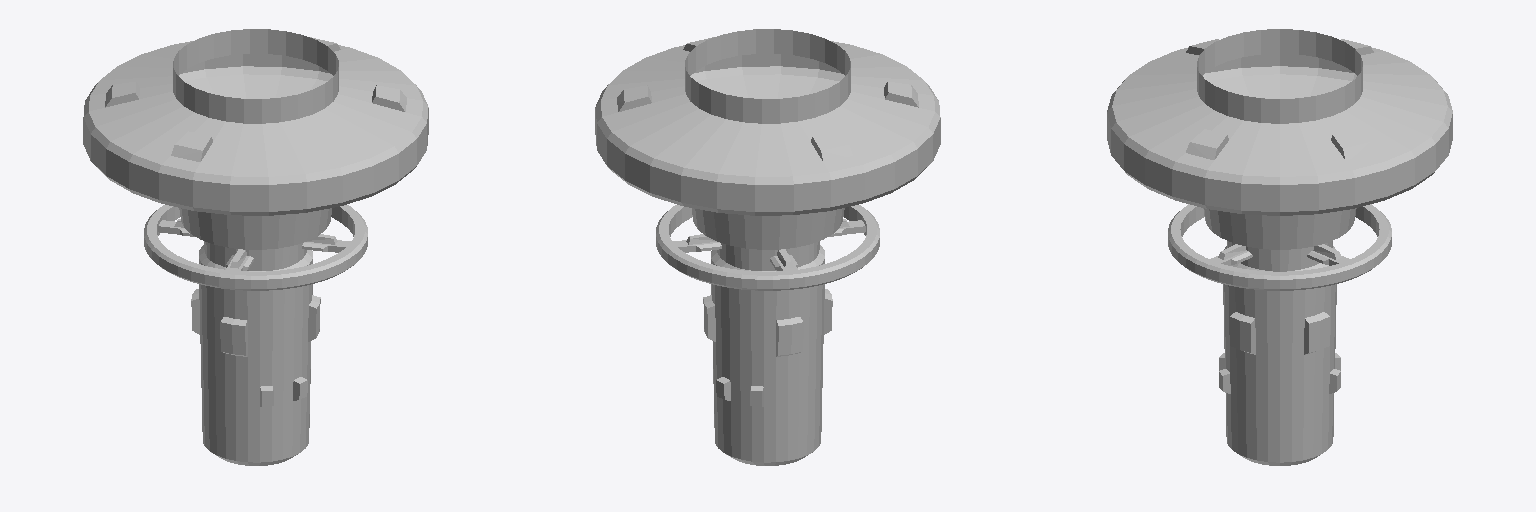
The model's file is _station-chunk-lower.obj.
3 renders of one model, left to right at view 1: azimuth 30°, elevation 25°; view 2: azimuth 150°, elevation 25°; view 3: azimuth 270°, elevation 25°, orthographic.
Parts seen in each view (by area): view 1: Modular_Station-Lower; view 2: Modular_Station-Lower; view 3: Modular_Station-Lower.
Part boxes in pixels (bbox=[...]): Modular_Station-Lower: bbox=[83, 29, 428, 465]; Modular_Station-Lower: bbox=[595, 29, 940, 465]; Modular_Station-Lower: bbox=[1107, 29, 1452, 465].
Size of the model in its own units: 6.54 by 8.01 by 6.54.